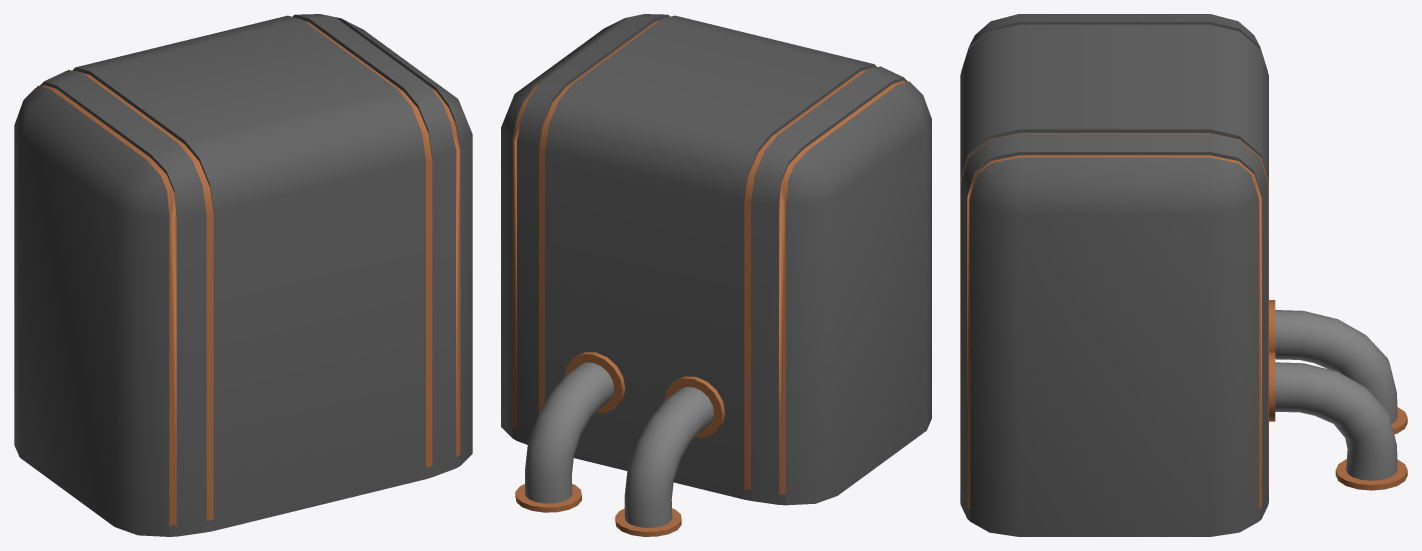
The model's file is MS_Interfering_box.fbx.
The picture shows the model from 3 angles, left to right: view 1: azimuth 30°, elevation 25°; view 2: azimuth 150°, elevation 25°; view 3: azimuth 270°, elevation 25°; orthographic projection. The views are drawn at different scales.
Visible parts, largest first — view 1: MS_Interfering_box; view 2: MS_Interfering_box; view 3: MS_Interfering_box.
Boxes of the visible parts, x1,y1,x2,y2 form: MS_Interfering_box: (14,14,472,536); MS_Interfering_box: (501,14,931,536); MS_Interfering_box: (960,14,1407,536).
Bounding box in the file's own units: 4 × 4 × 4.35.
